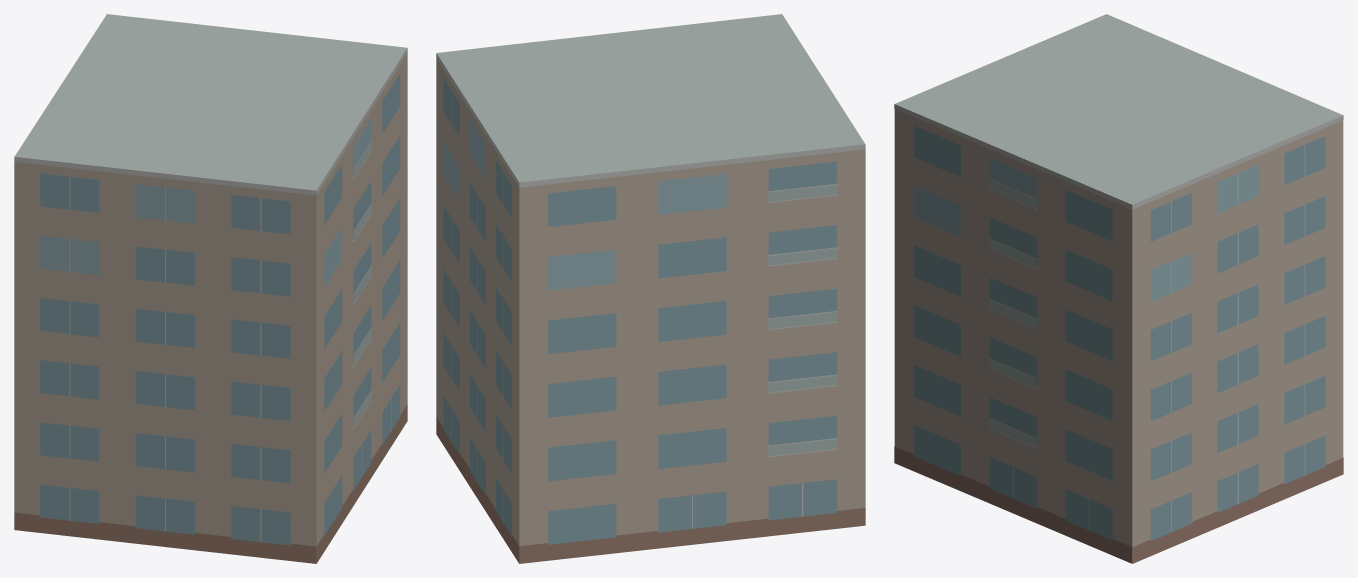
File: survey-upis-32602675.glb
3 renders of one model, left to right at view 1: azimuth 30°, elevation 25°; view 2: azimuth 150°, elevation 25°; view 3: azimuth 270°, elevation 25°, orthographic. The views are drawn at different scales.
Visible parts, largest first — view 1: survey-upis-32602675.tmp; view 2: survey-upis-32602675.tmp; view 3: survey-upis-32602675.tmp.
Part boxes in pixels (x1,y1,x2,y2): survey-upis-32602675.tmp: (14, 14, 407, 563); survey-upis-32602675.tmp: (436, 14, 865, 563); survey-upis-32602675.tmp: (894, 14, 1343, 563).
Size of the model in its own units: 20.87 by 18.3 by 20.75.
